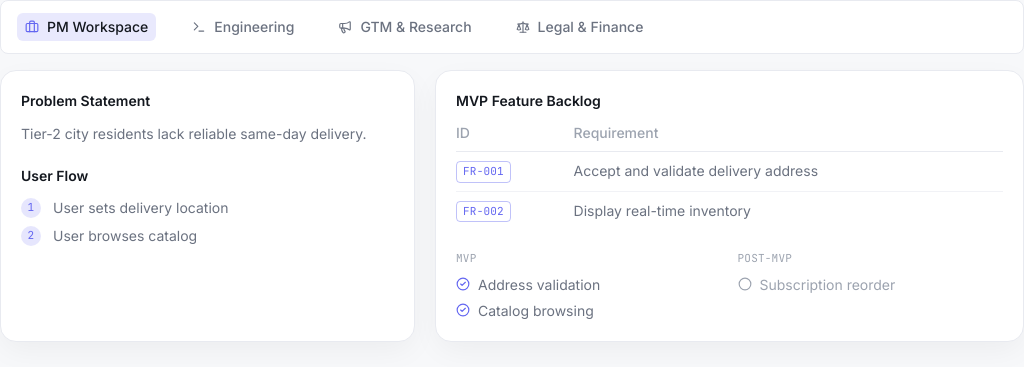
Test case: WorkspaceTabs switching › switches to Engineering content on click
Click the tab "Engineering".
click(243, 27)  # box x1=172 y1=5 x2=314 y2=49
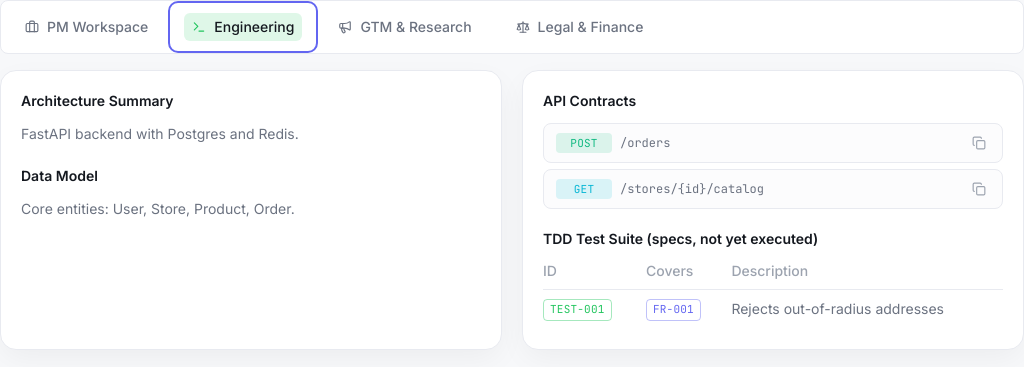
Now the heading "Architecture Summary" is shown, box x1=21 y1=92 x2=174 y2=109
Now the heading "Problem Statement" is gone
